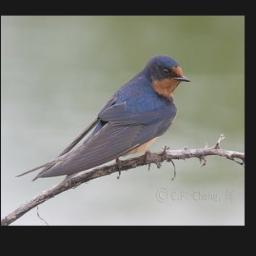Swallow: (14, 53, 191, 183)
